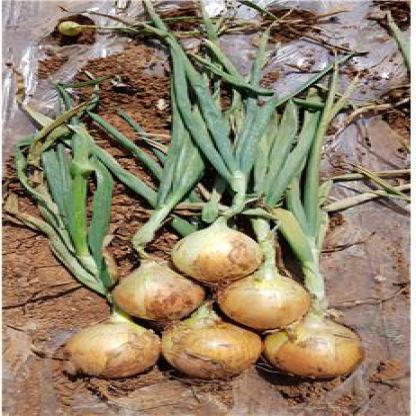onion: (264, 316, 369, 378), (210, 263, 300, 328), (74, 316, 168, 375), (166, 318, 256, 379), (113, 264, 200, 312), (187, 232, 265, 278)
